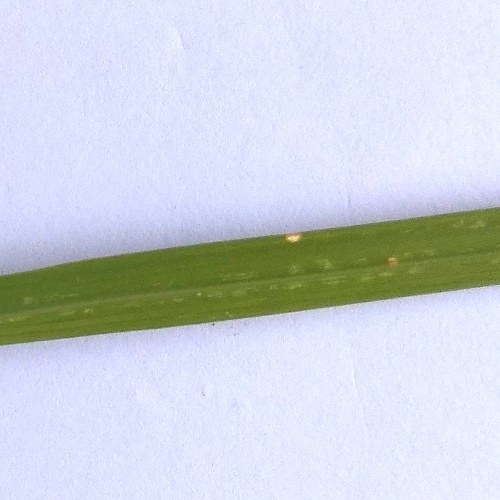Busuk Leher: (278, 223, 312, 251)
